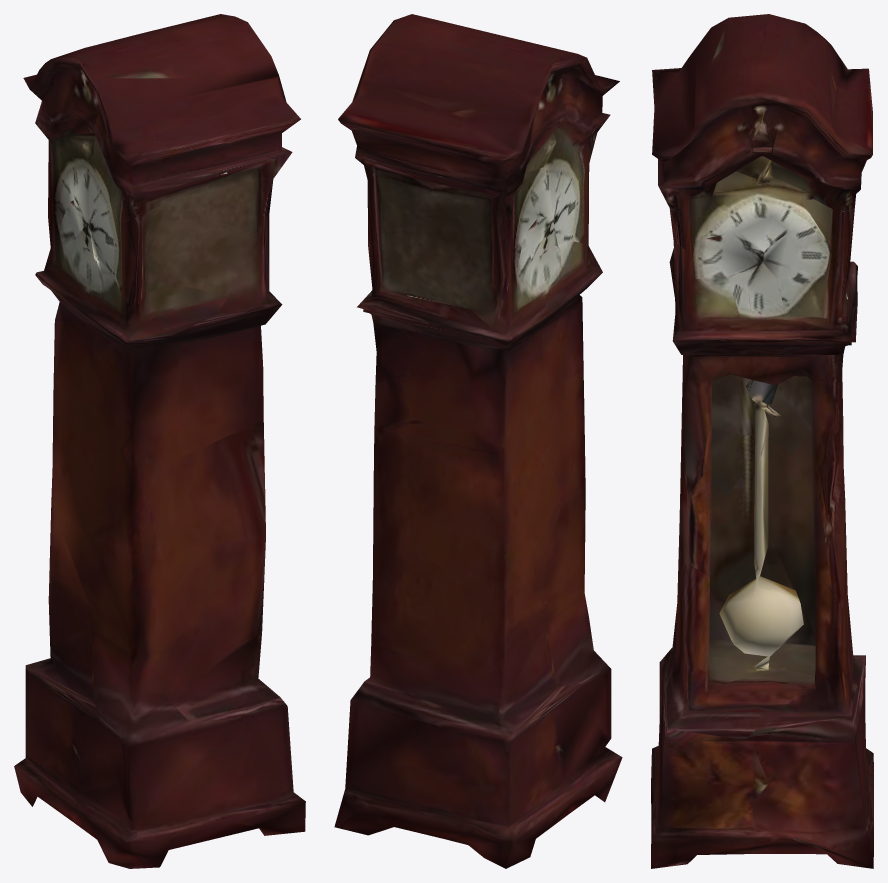
File: reloj.glb
The picture shows the model from 3 angles, left to right: view 1: azimuth 30°, elevation 25°; view 2: azimuth 150°, elevation 25°; view 3: azimuth 270°, elevation 25°; orthographic projection.
Visible parts, largest first — view 1: tripo_node_8818f9a2-9863-4b96-b26e-f82727df83c1; view 2: tripo_node_8818f9a2-9863-4b96-b26e-f82727df83c1; view 3: tripo_node_8818f9a2-9863-4b96-b26e-f82727df83c1.
Part boxes in pixels (box(x1,y1,x2,y2)): tripo_node_8818f9a2-9863-4b96-b26e-f82727df83c1: box(14, 14, 305, 868); tripo_node_8818f9a2-9863-4b96-b26e-f82727df83c1: box(334, 14, 622, 868); tripo_node_8818f9a2-9863-4b96-b26e-f82727df83c1: box(651, 14, 873, 868).
Bounding box in the file's own units: 0.2511 × 1 × 0.2614.
Materials: 1 (1 with a texture image).
